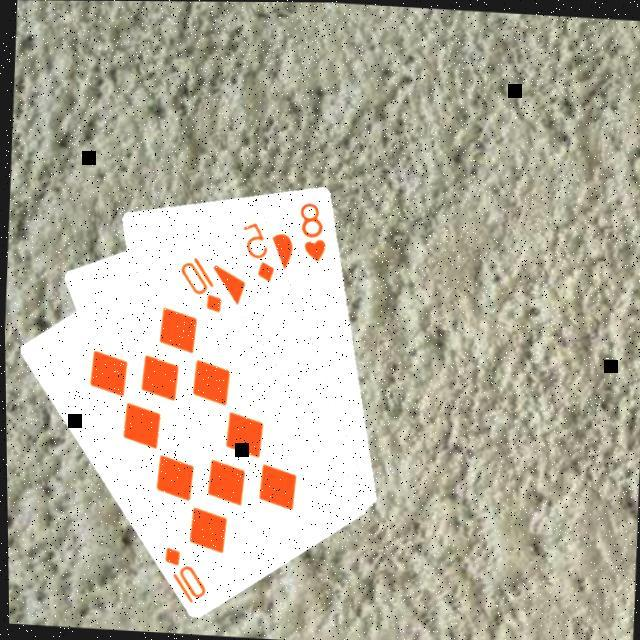10D: (154, 540, 208, 604), (172, 250, 225, 314)
5D: (234, 216, 278, 284)
8H: (292, 196, 330, 264)
